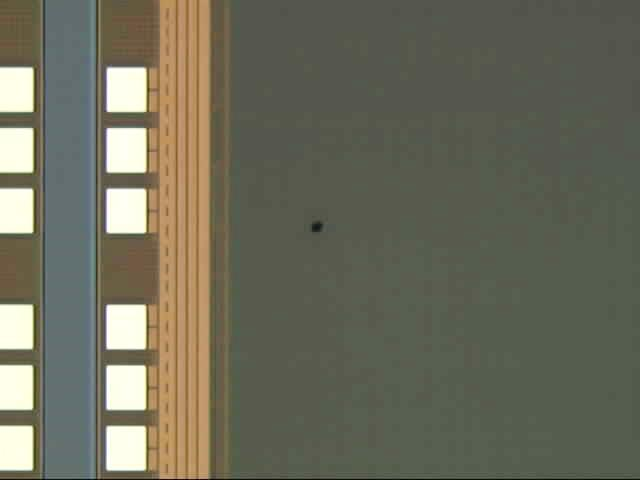PIQ PARTICLE: (308, 219, 328, 239)
